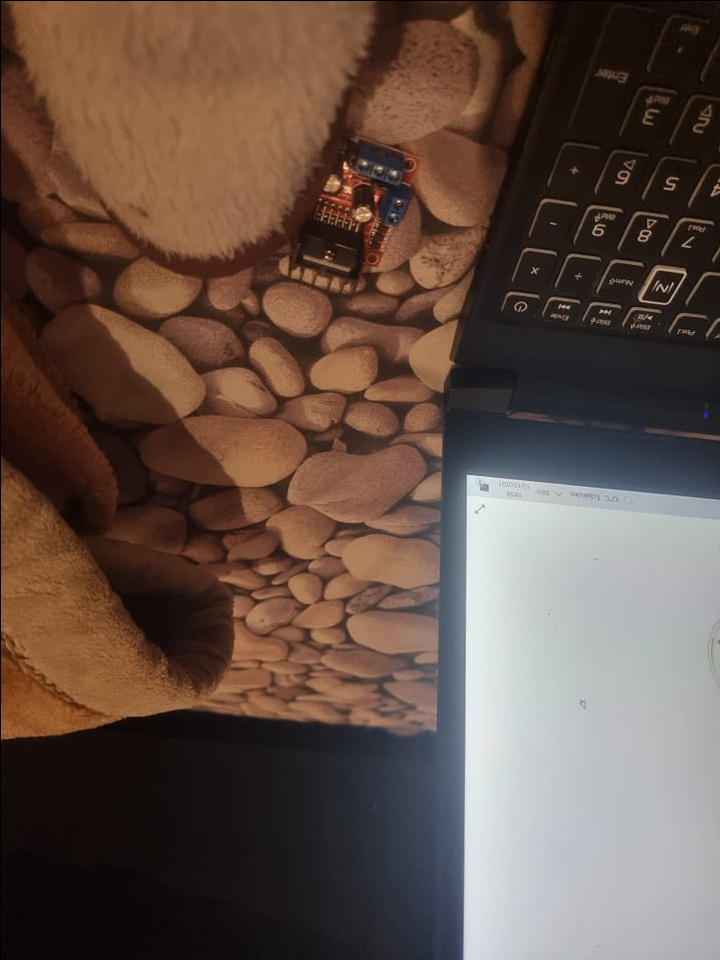MOTOR: (282, 138, 423, 293)
